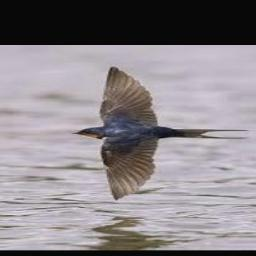Swallow: (73, 67, 251, 201)
